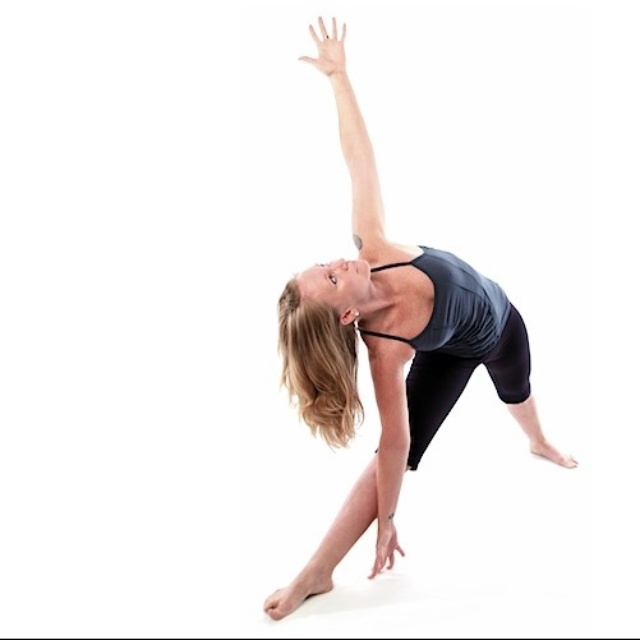Triangle_Pose: (250, 8, 584, 627)
